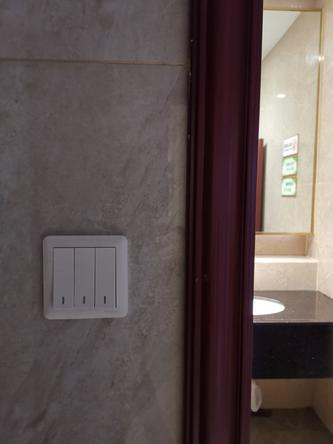switch: (92, 245, 121, 311), (71, 243, 99, 311), (49, 242, 76, 310)
